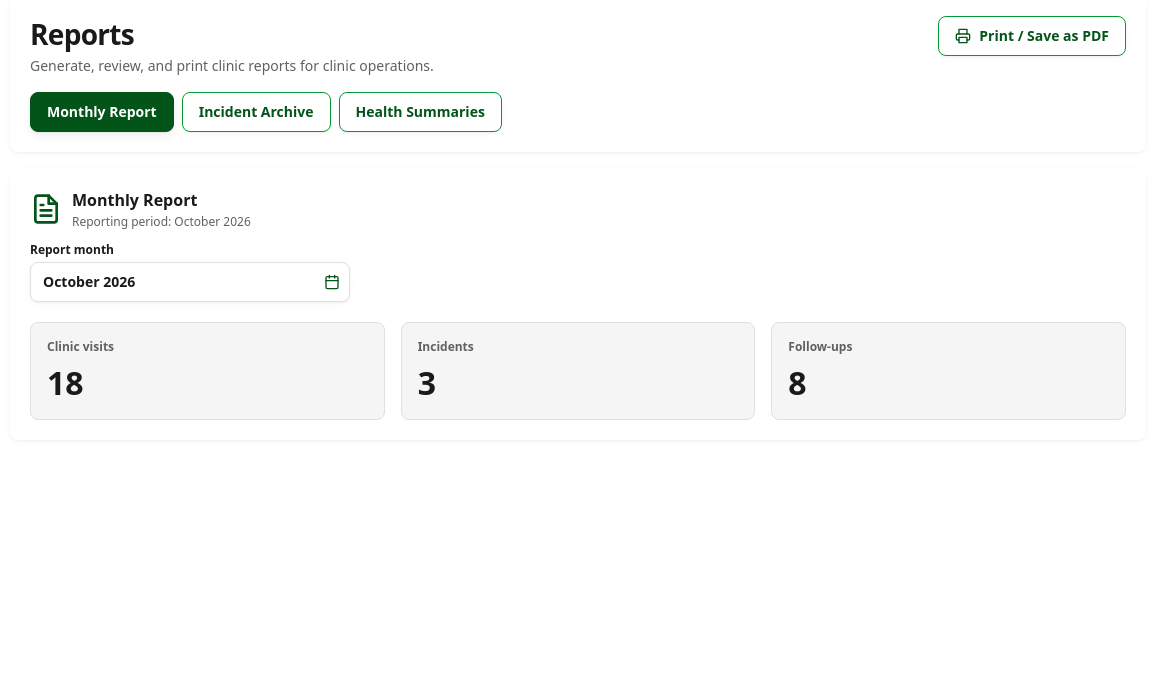
Test: Reports › switches between print-friendly report views
Expected: the heading "Monthly Report" is shown, [72, 189, 197, 211]
Click the tab "Incident Archive" at [256, 112], box [182, 92, 330, 132]
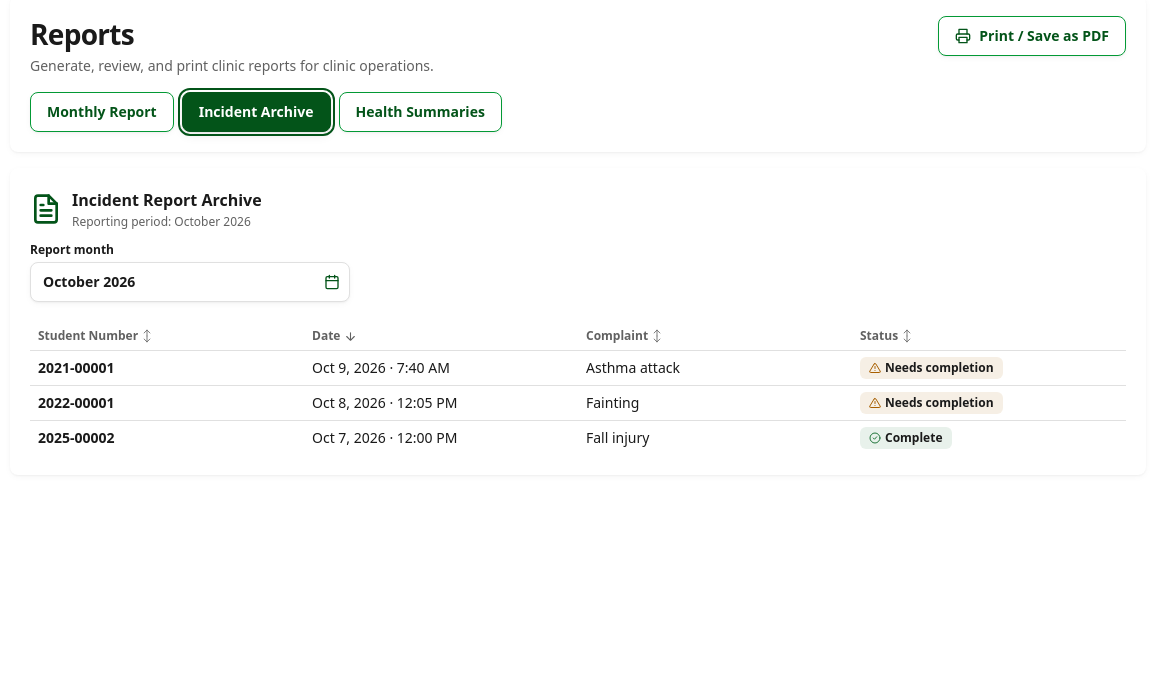
Result: the heading "Incident Report Archive" is shown at [72, 188, 262, 212]
Click the tab "Health Summaries" at [420, 112], box [338, 92, 502, 132]
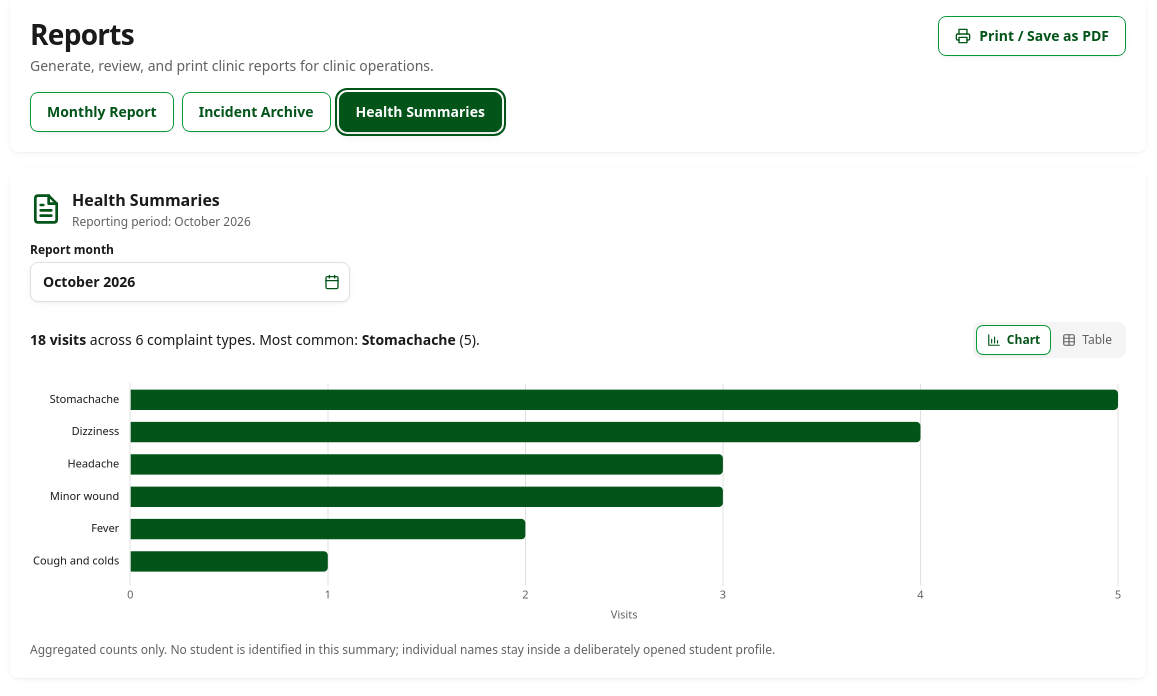
Result: the heading "Health Summaries" is shown at [72, 189, 220, 211]
